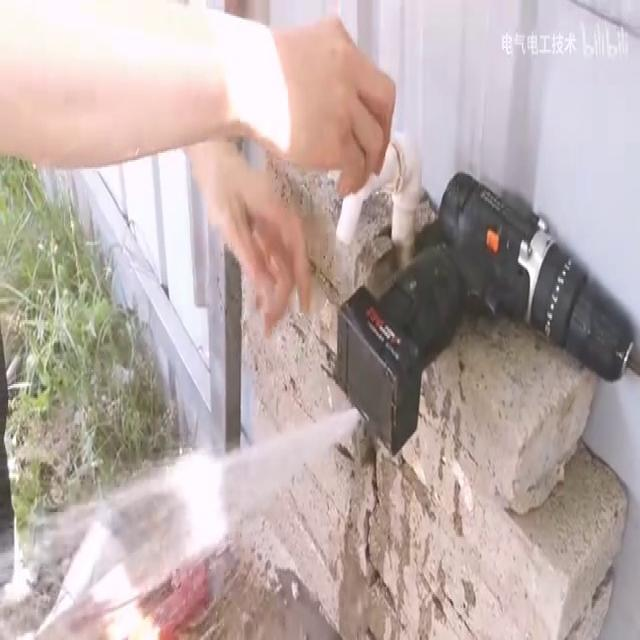leak: (0, 406, 370, 640)
